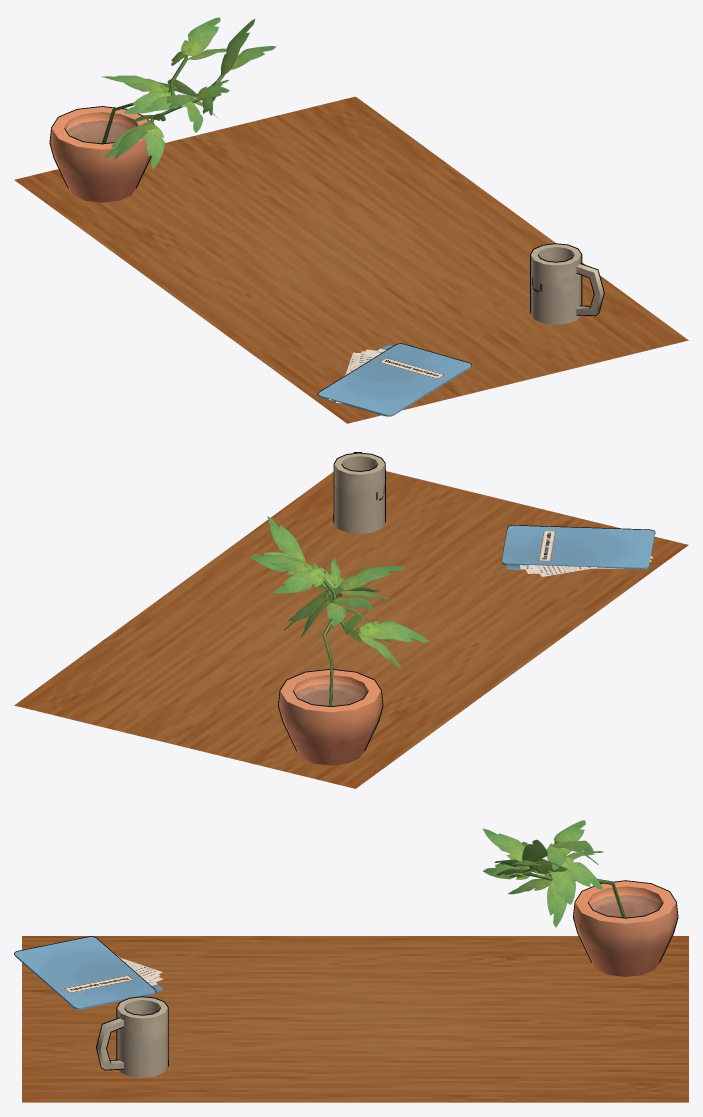
File: Tabuleiro.glb
3 renders of one model, top to bottom at view 1: azimuth 30°, elevation 25°; view 2: azimuth 150°, elevation 25°; view 3: azimuth 270°, elevation 25°, orthographic.
Parts seen in each view (by area): view 1: Tabuleiro, Vaso Tabuleiro, Folhas, Pasta Tabuleiro, Caneca Tabuleiro, Contornos; view 2: Tabuleiro, Vaso Tabuleiro, Folhas, Pasta Tabuleiro, Caneca Tabuleiro, Contornos; view 3: Tabuleiro, Vaso Tabuleiro, Pasta Tabuleiro, Folhas, Caneca Tabuleiro, Contornos.
Boxes of the visible parts, x1=… form: Tabuleiro: x1=14, y1=96, x2=688, y2=423; Vaso Tabuleiro: x1=50, y1=56, x2=225, y2=202; Folhas: x1=102, y1=17, x2=275, y2=168; Pasta Tabuleiro: x1=318, y1=344, x2=471, y2=416; Caneca Tabuleiro: x1=531, y1=244, x2=603, y2=324; Contornos: x1=49, y1=60, x2=604, y2=394; Tabuleiro: x1=14, y1=471, x2=688, y2=788; Vaso Tabuleiro: x1=279, y1=568, x2=382, y2=765; Folhas: x1=246, y1=516, x2=428, y2=668; Pasta Tabuleiro: x1=502, y1=525, x2=654, y2=576; Caneca Tabuleiro: x1=334, y1=453, x2=384, y2=533; Contornos: x1=278, y1=452, x2=655, y2=751; Tabuleiro: x1=22, y1=936, x2=688, y2=1102; Vaso Tabuleiro: x1=523, y1=841, x2=677, y2=976; Pasta Tabuleiro: x1=14, y1=937, x2=162, y2=1009; Folhas: x1=482, y1=820, x2=603, y2=927; Caneca Tabuleiro: x1=97, y1=997, x2=167, y2=1077; Contornos: x1=14, y1=841, x2=678, y2=1070.
Size of the model in its own units: 11.84 by 5.89 by 20.24.
5 materials, 4 textured.
